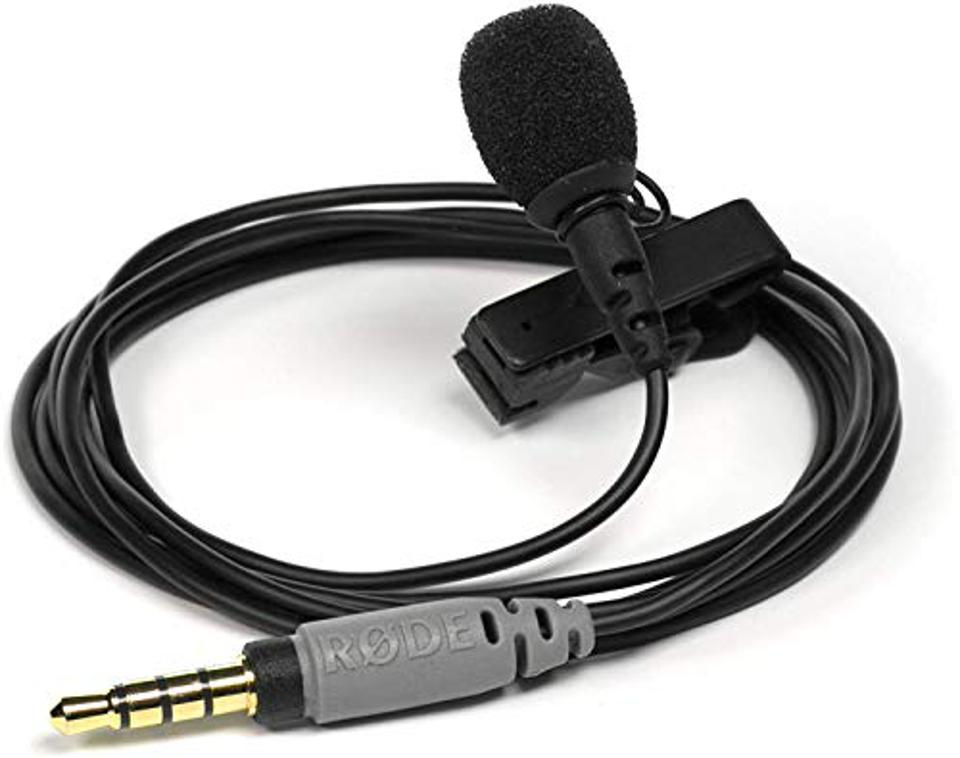microphone: (8, 4, 909, 758)
